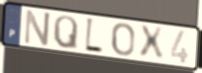4: (169, 29, 190, 66)
L: (83, 16, 104, 56)
N: (22, 8, 52, 48)
O: (111, 22, 136, 57)
Q: (52, 15, 79, 52)
X: (138, 24, 166, 62)
